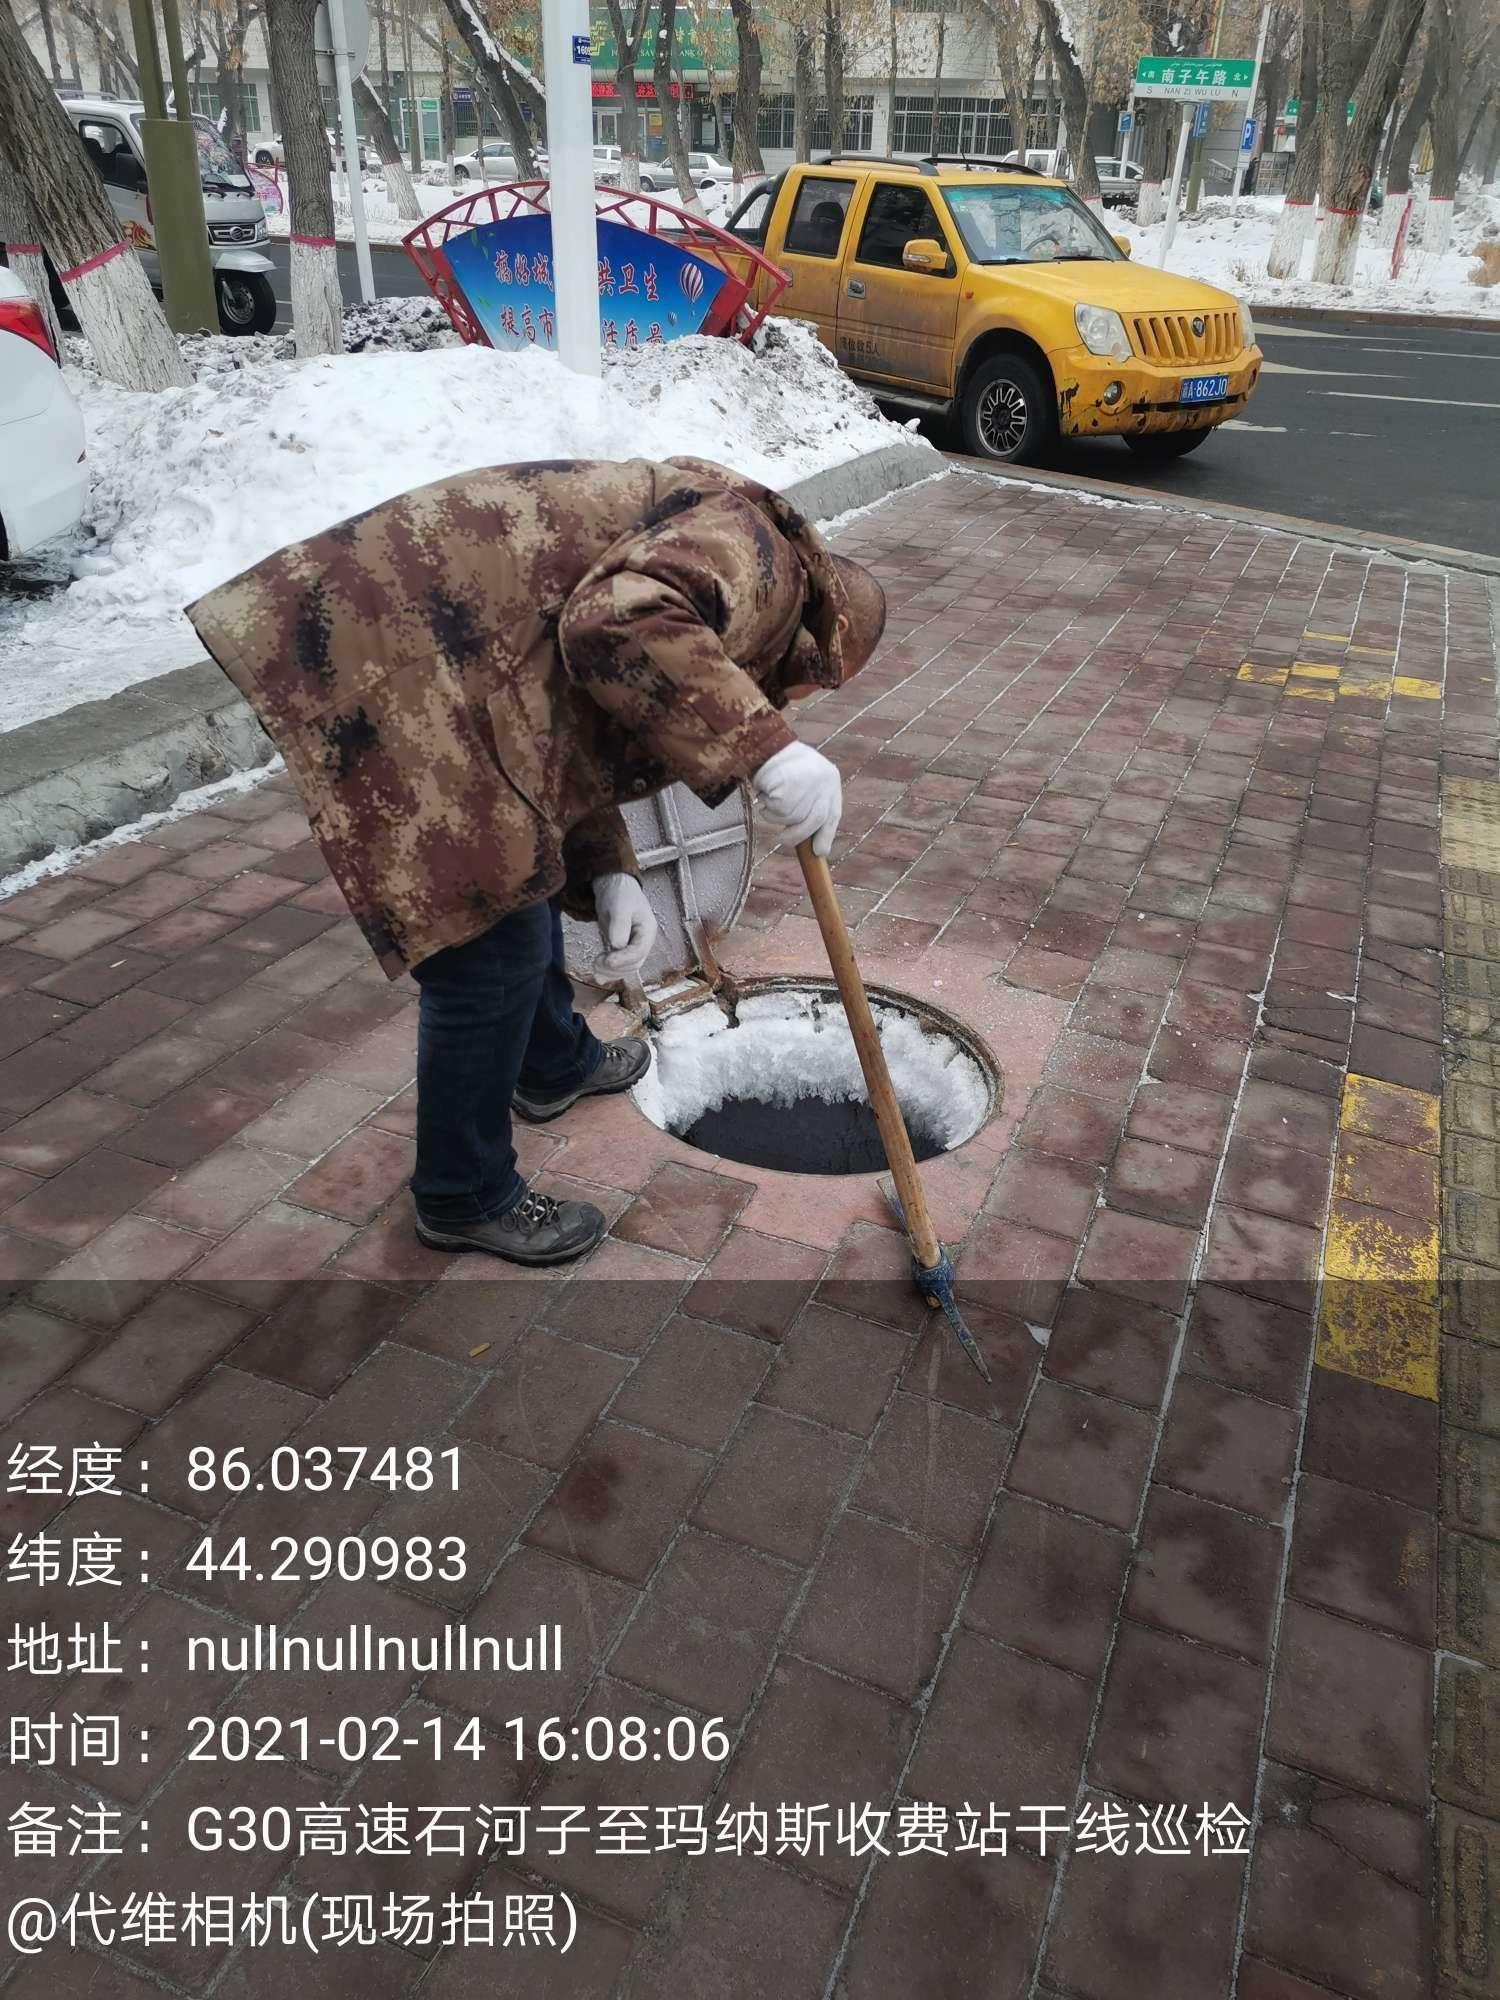wellcover: (528, 691, 1016, 1227)
